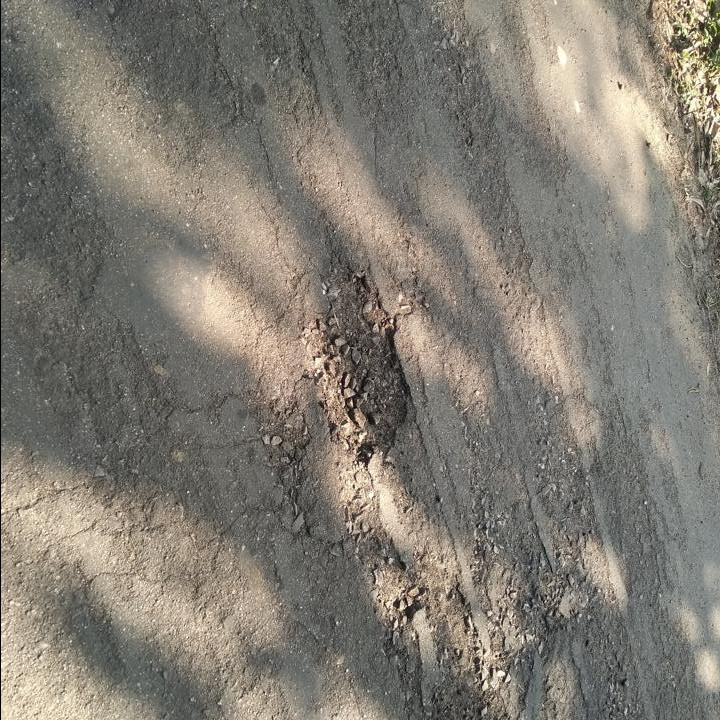pothole: (310, 259, 416, 465)
